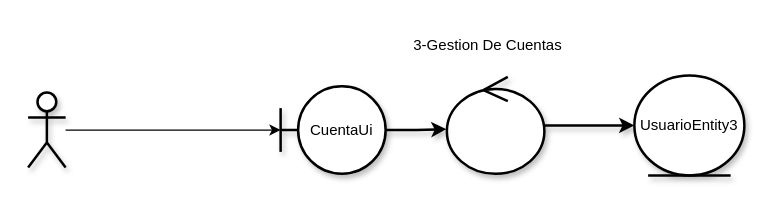
Some shapes in this 775 by 215 pixel diagram are drawn without their labels. The shapes that lost their labels are listed below. From the top down, each one's centre as x and y in pixels, then its label:
At (47,131): "Usuario".
At (496,126): "CuentaAction".
